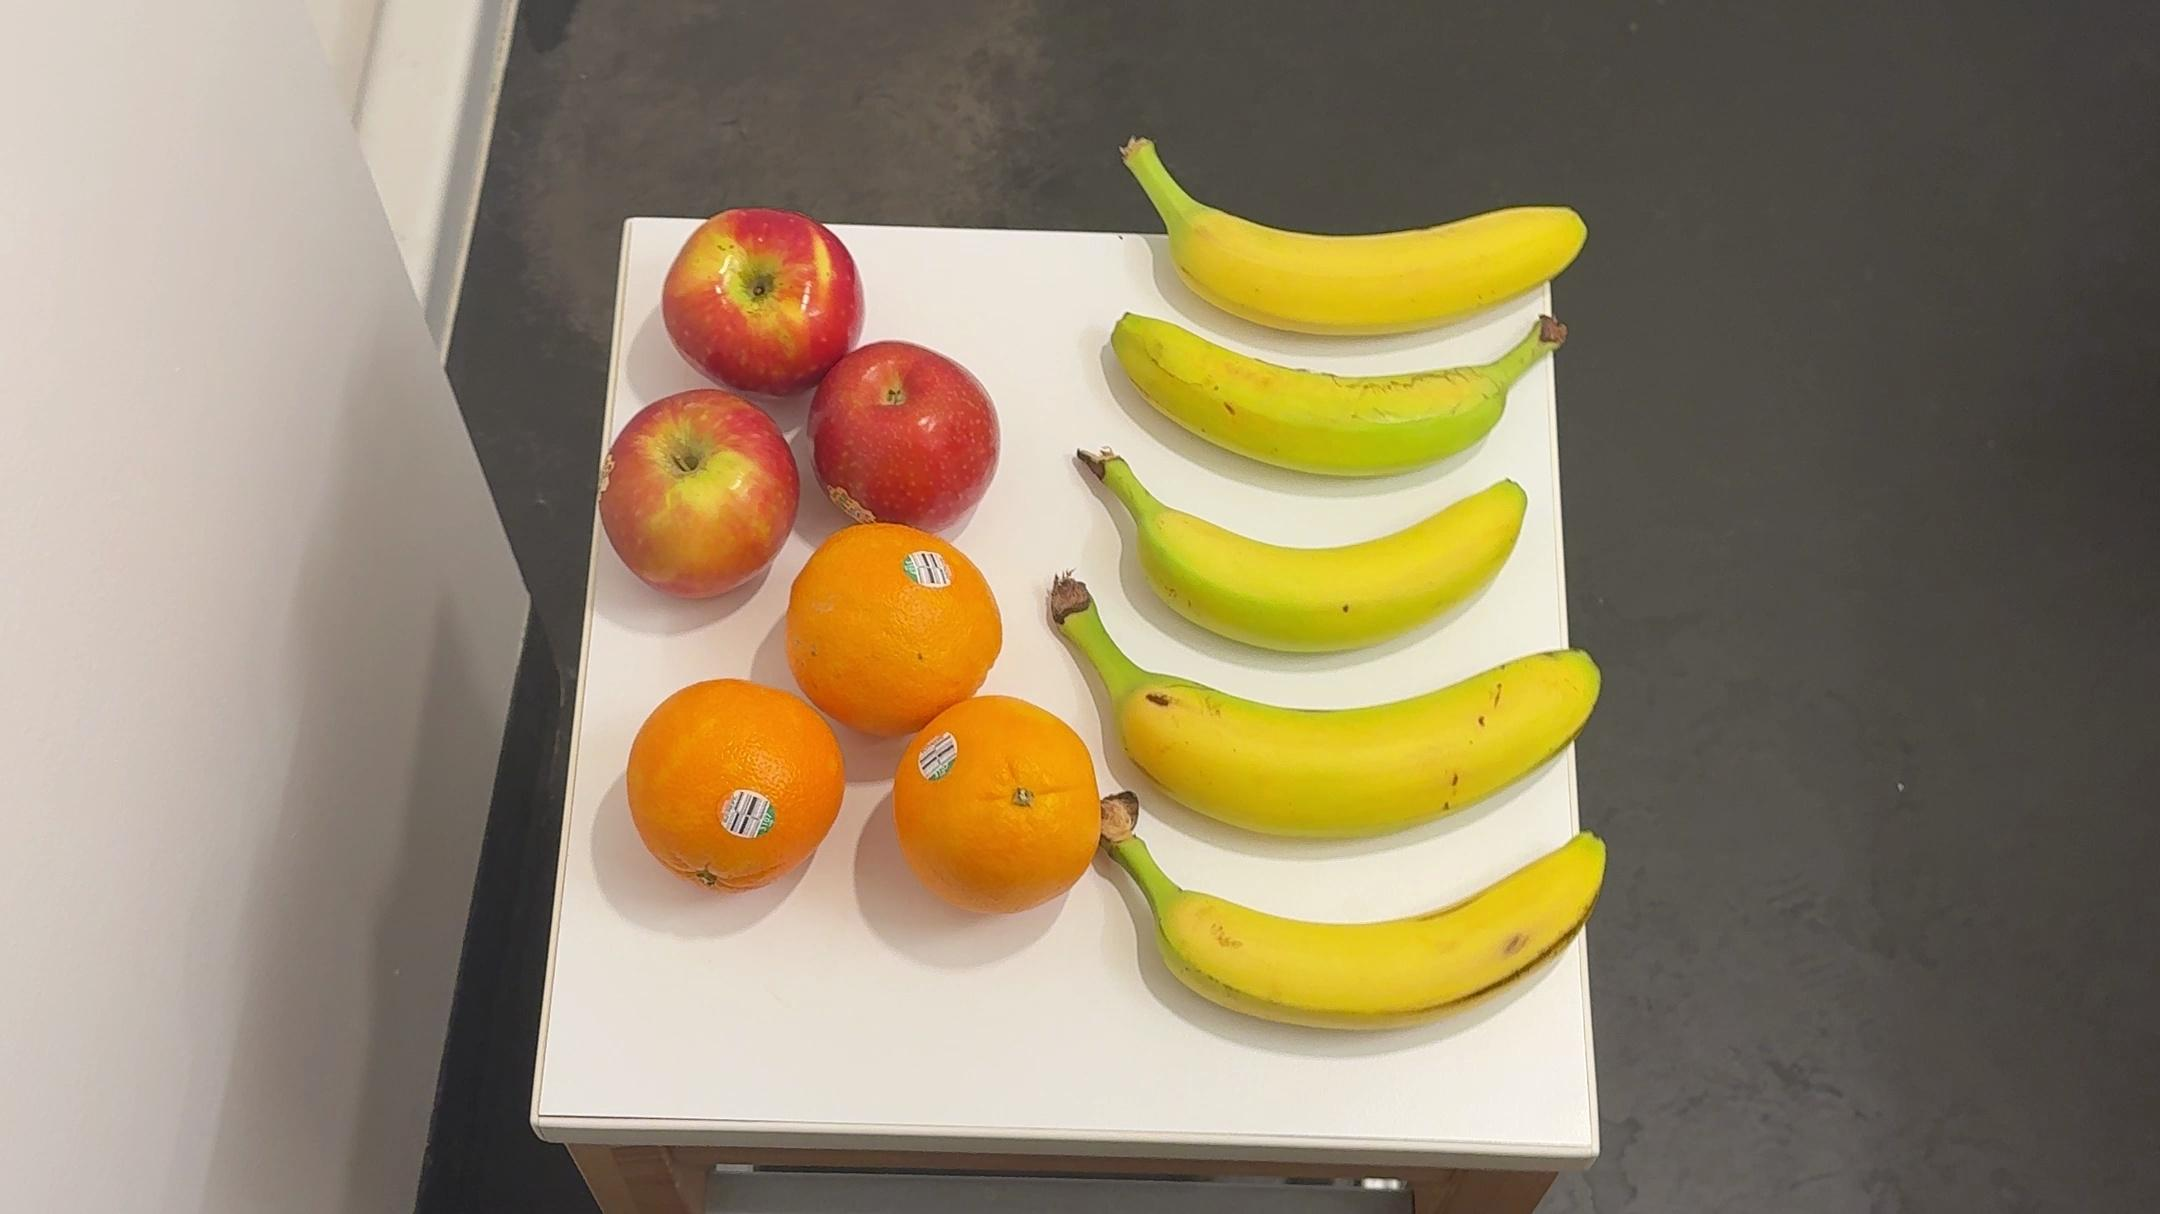apple: (587, 393, 803, 606), (795, 352, 1024, 539), (659, 209, 883, 384)
banana: (1033, 565, 1604, 841), (1090, 785, 1614, 1042), (1110, 122, 1608, 347), (1067, 433, 1541, 660), (1089, 301, 1590, 482)
orange: (616, 665, 840, 899), (893, 693, 1108, 919), (791, 527, 1004, 730)
